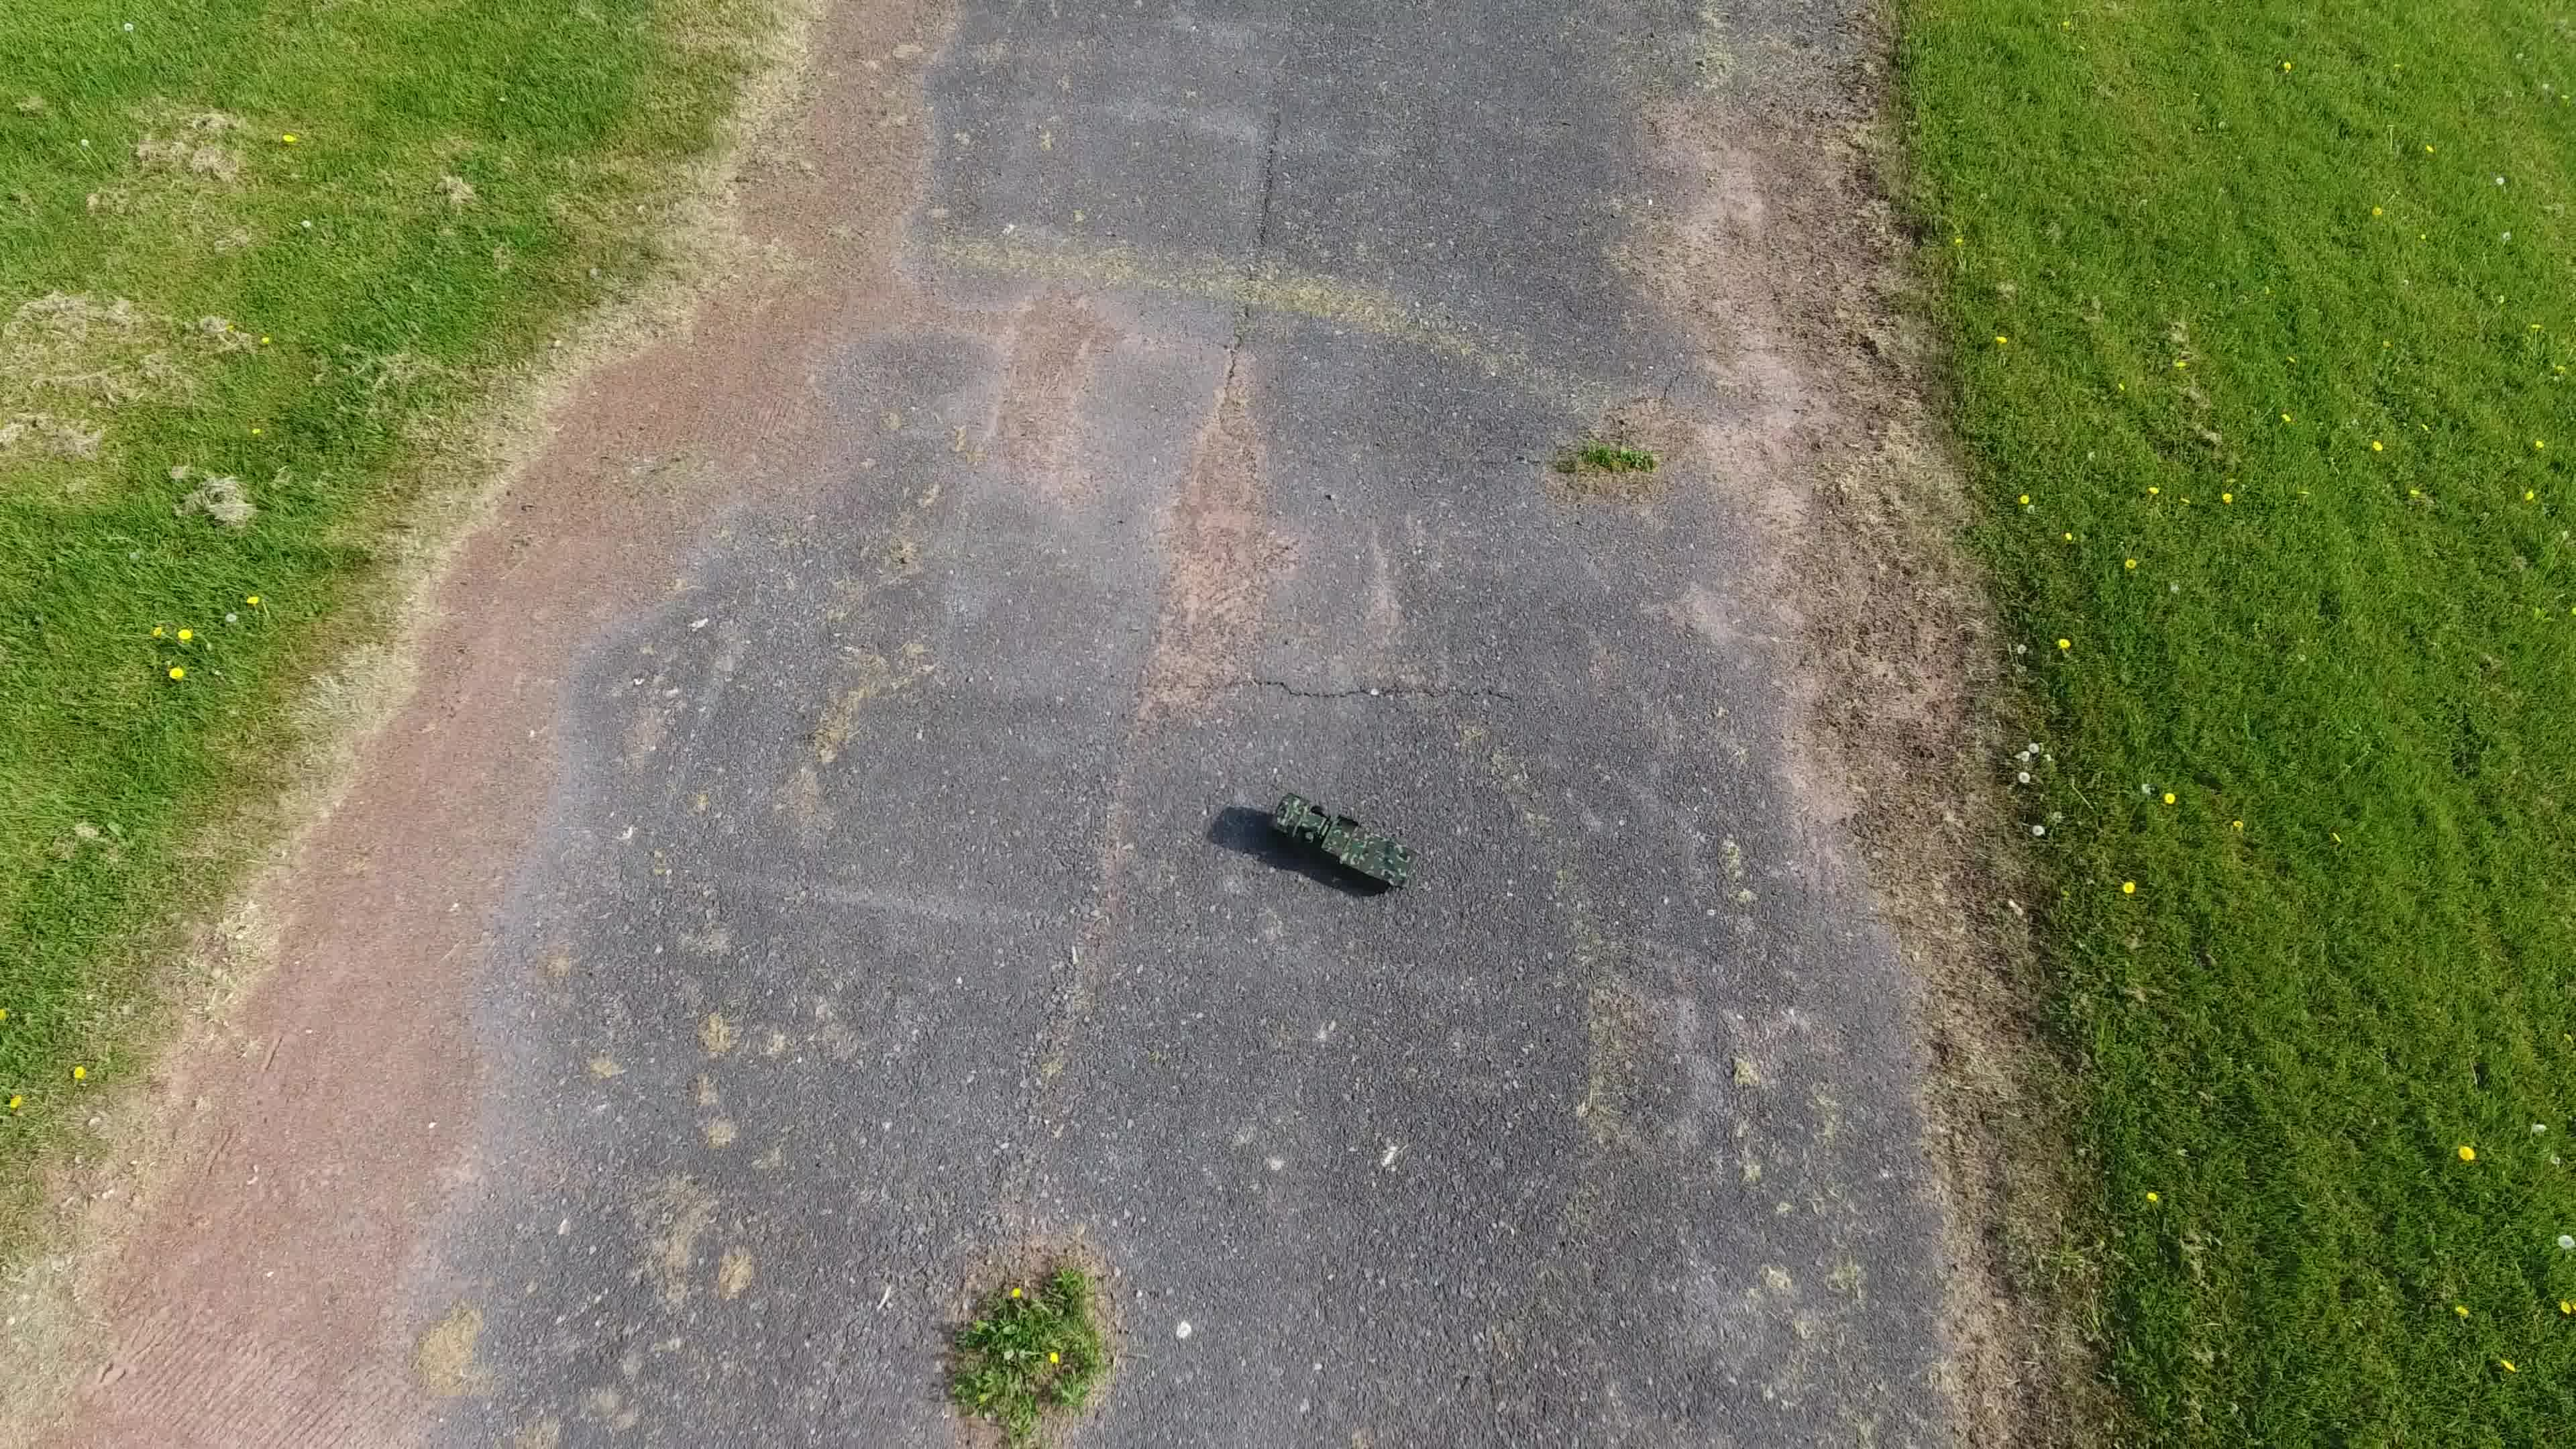transporter9_camo: (1267, 789, 1426, 893)
